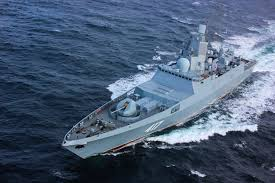tau_muctieu: (66, 38, 252, 152)
